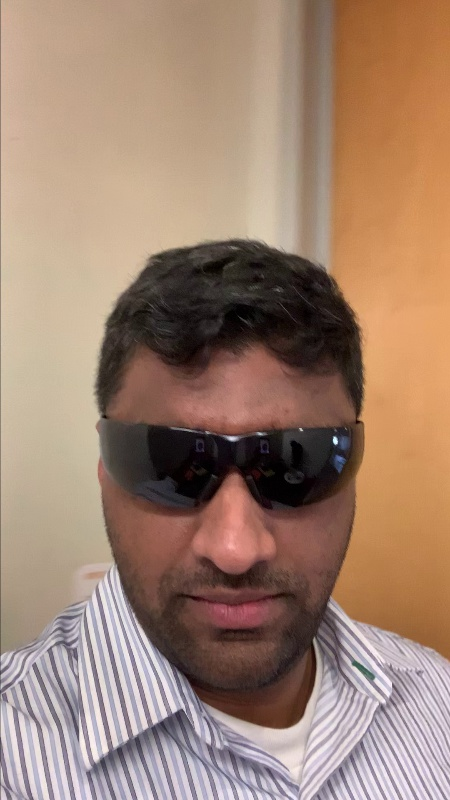glasses: (79, 406, 379, 519)
